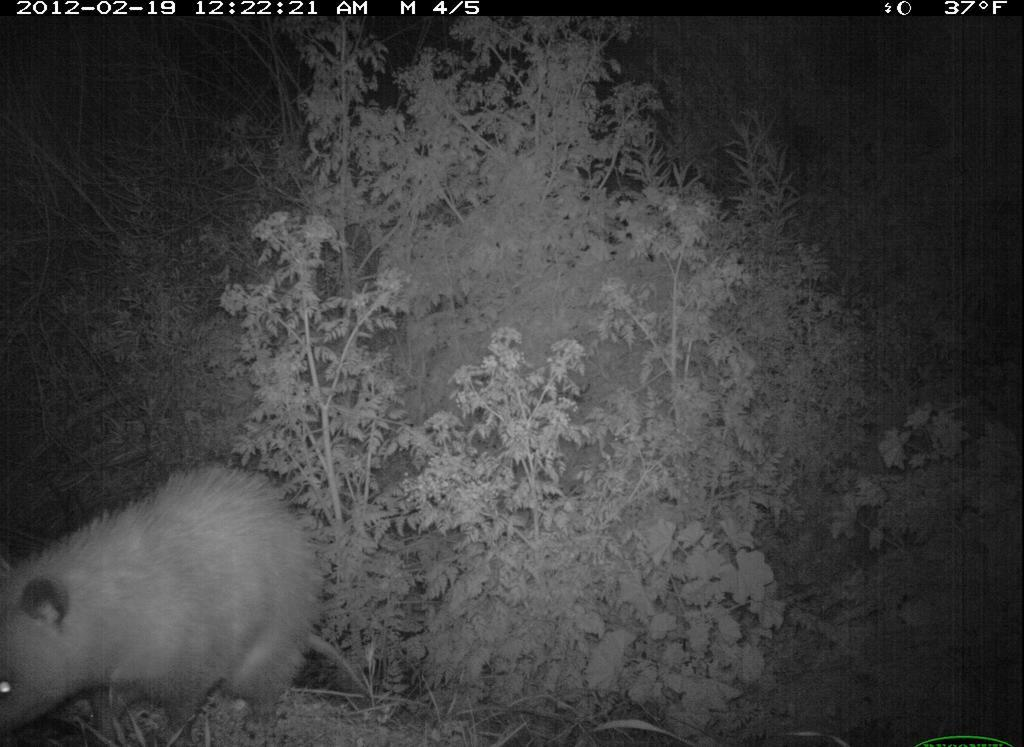opossum: (3, 447, 372, 747)
